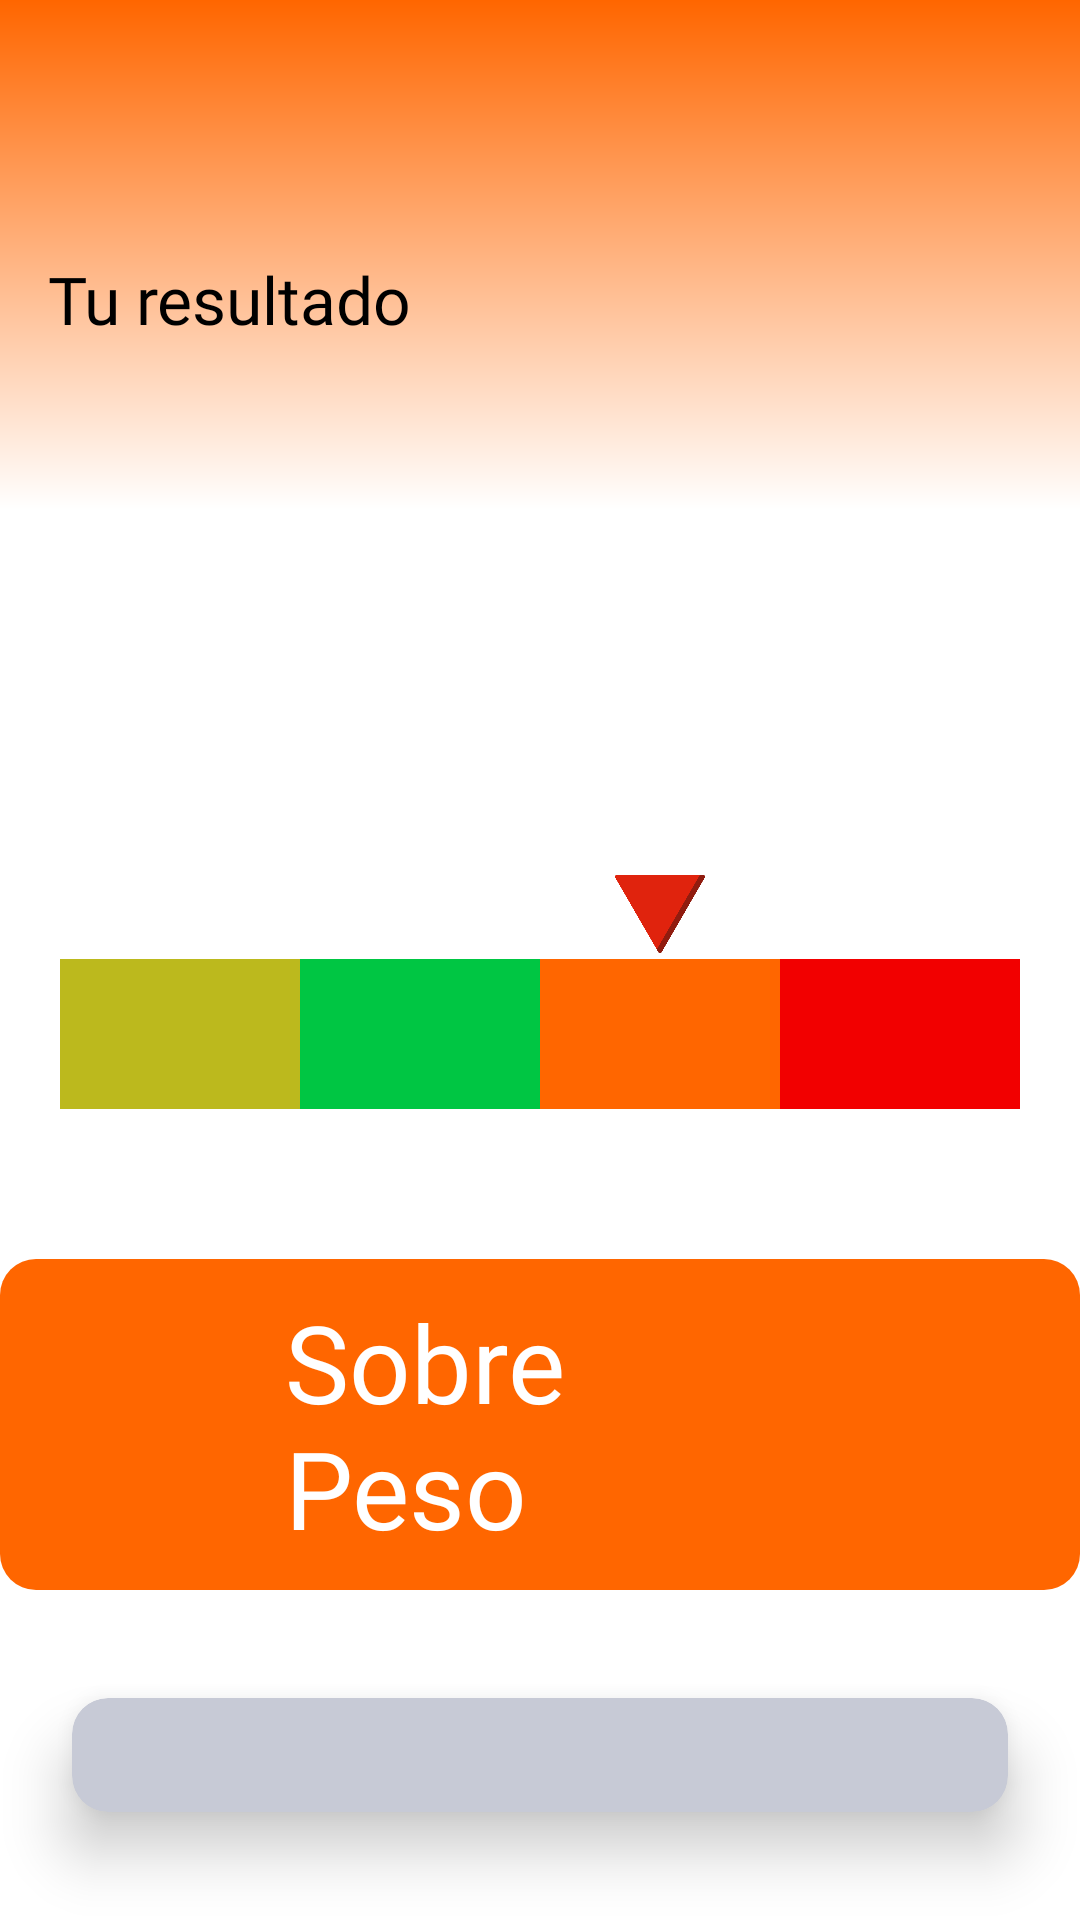

Named icons in this screenshot (1080×1920) and their bounding boxes, (x1, y1, x2, y2):
triangulo: (615, 875, 705, 953)
